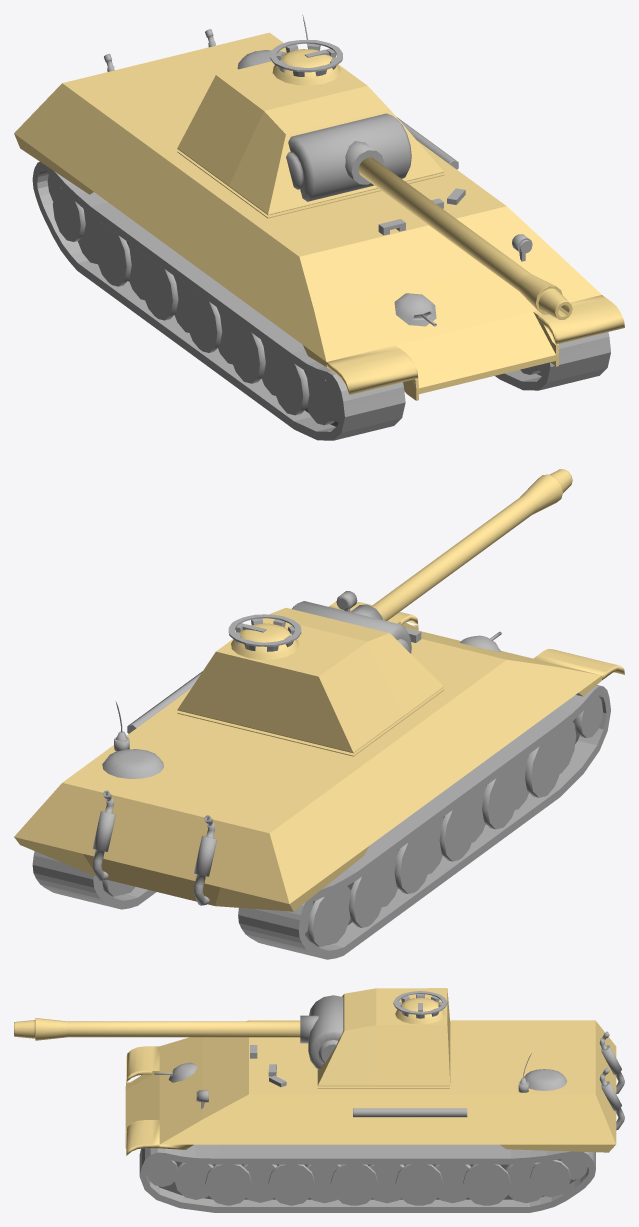
File: Tank.fbx
3 renders of one model, top to bottom at view 1: azimuth 30°, elevation 25°; view 2: azimuth 150°, elevation 25°; view 3: azimuth 270°, elevation 25°, orthographic. The views are drawn at different scales.
Parts seen in each view (by area): view 1: Tank; view 2: Tank; view 3: Tank.
Part boxes in pixels (x1,y1,x2,y2): Tank: (14,14,624,440); Tank: (14,469,624,959); Tank: (14,988,624,1212).
Bounding box in the file's own units: 284 × 229 × 745.
